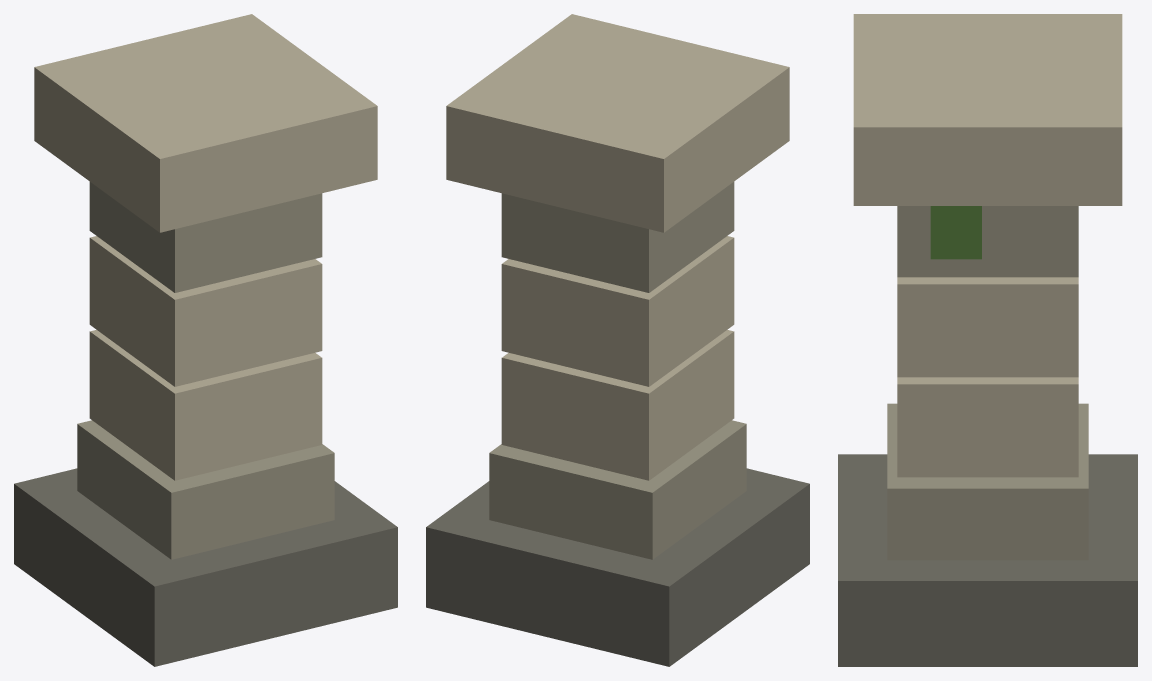
The model's file is underwater_ruins__short_column.glb.
3 renders of one model, left to right at view 1: azimuth 30°, elevation 25°; view 2: azimuth 150°, elevation 25°; view 3: azimuth 270°, elevation 25°, orthographic. The views are drawn at different scales.
Parts seen in each view (by area): view 1: short_column__stone2.001, short_column__stone_dark.001, short_column__stone.001; view 2: short_column__stone2.001, short_column__stone_dark.001, short_column__stone.001; view 3: short_column__stone2.001, short_column__stone_dark.001, short_column__stone.001, short_column__leaf.001.
Part boxes in pixels (x1,y1,x2,y2): short_column__stone2.001: (34,14,377,480); short_column__stone_dark.001: (14,468,397,666); short_column__stone.001: (77,182,334,559); short_column__stone2.001: (446,14,789,480); short_column__stone_dark.001: (426,468,809,666); short_column__stone.001: (489,182,746,559); short_column__stone2.001: (853,14,1122,477); short_column__stone_dark.001: (838,454,1137,666); short_column__stone.001: (887,206,1088,560); short_column__leaf.001: (930,206,981,259).
Size of the model in its own units: 0.76 by 1.49 by 0.76.
